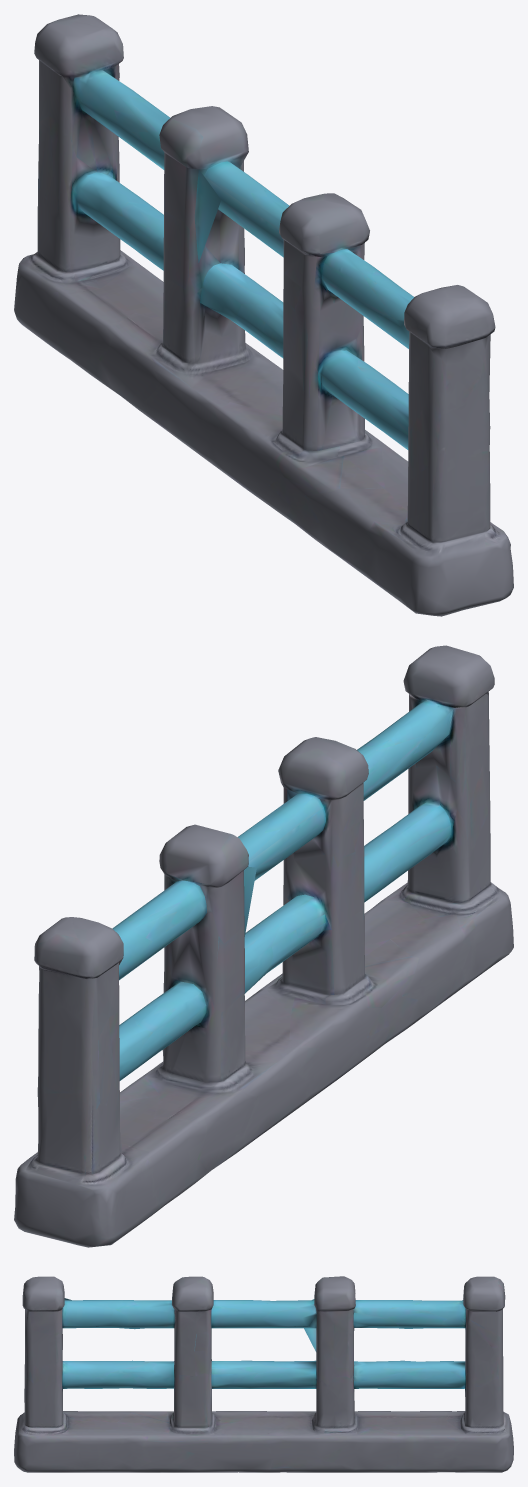
The model's file is railings.glb.
The picture shows the model from 3 angles, top to bottom: view 1: azimuth 30°, elevation 25°; view 2: azimuth 150°, elevation 25°; view 3: azimuth 270°, elevation 25°; orthographic projection. The views are drawn at different scales.
Visible parts, largest first — view 1: tripo_node_a734465f-f42a-422e-96e1-9c4aea61000b; view 2: tripo_node_a734465f-f42a-422e-96e1-9c4aea61000b; view 3: tripo_node_a734465f-f42a-422e-96e1-9c4aea61000b.
Boxes of the visible parts, <box> form: tripo_node_a734465f-f42a-422e-96e1-9c4aea61000b: <box>14,14,513,616</box>; tripo_node_a734465f-f42a-422e-96e1-9c4aea61000b: <box>14,645,513,1247</box>; tripo_node_a734465f-f42a-422e-96e1-9c4aea61000b: <box>14,1276,513,1472</box>.
Bounding box in the file's own units: 0.1338 × 0.3876 × 0.9805.
1 material, 1 textured.
